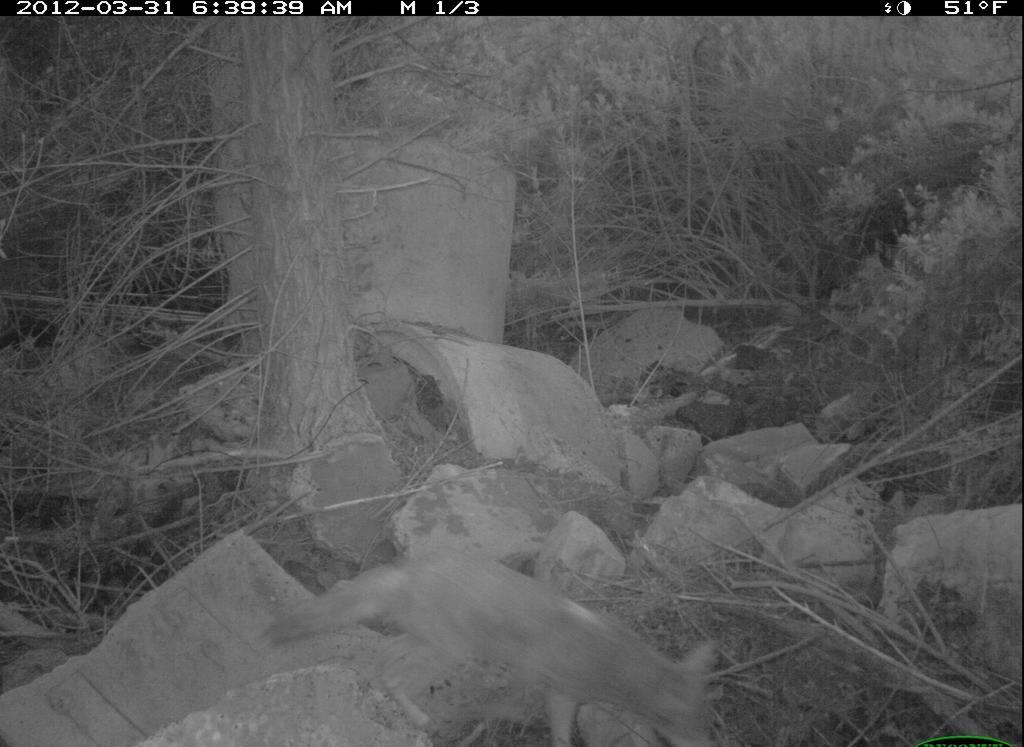coyote: (263, 545, 727, 747)
